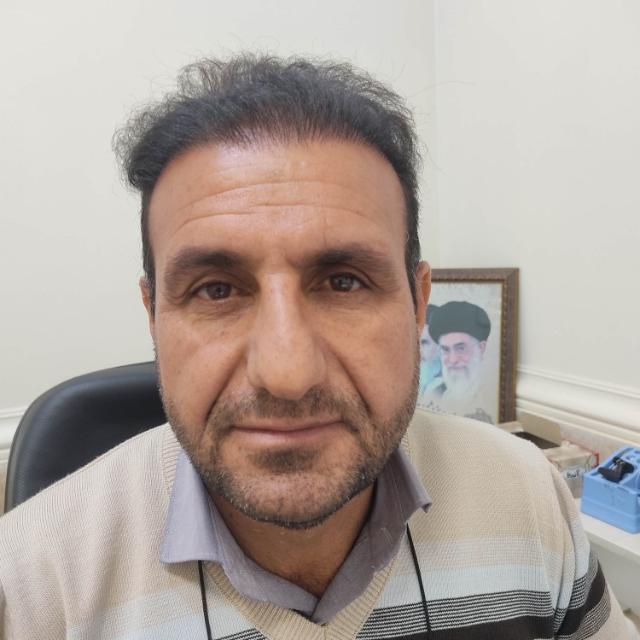crows_feet: (160, 286, 188, 314)
forehead: (252, 190, 304, 227), (250, 168, 306, 198), (195, 178, 239, 206), (332, 198, 371, 226), (182, 207, 238, 226)
gummy_smile: (330, 347, 376, 408), (197, 360, 239, 412)
